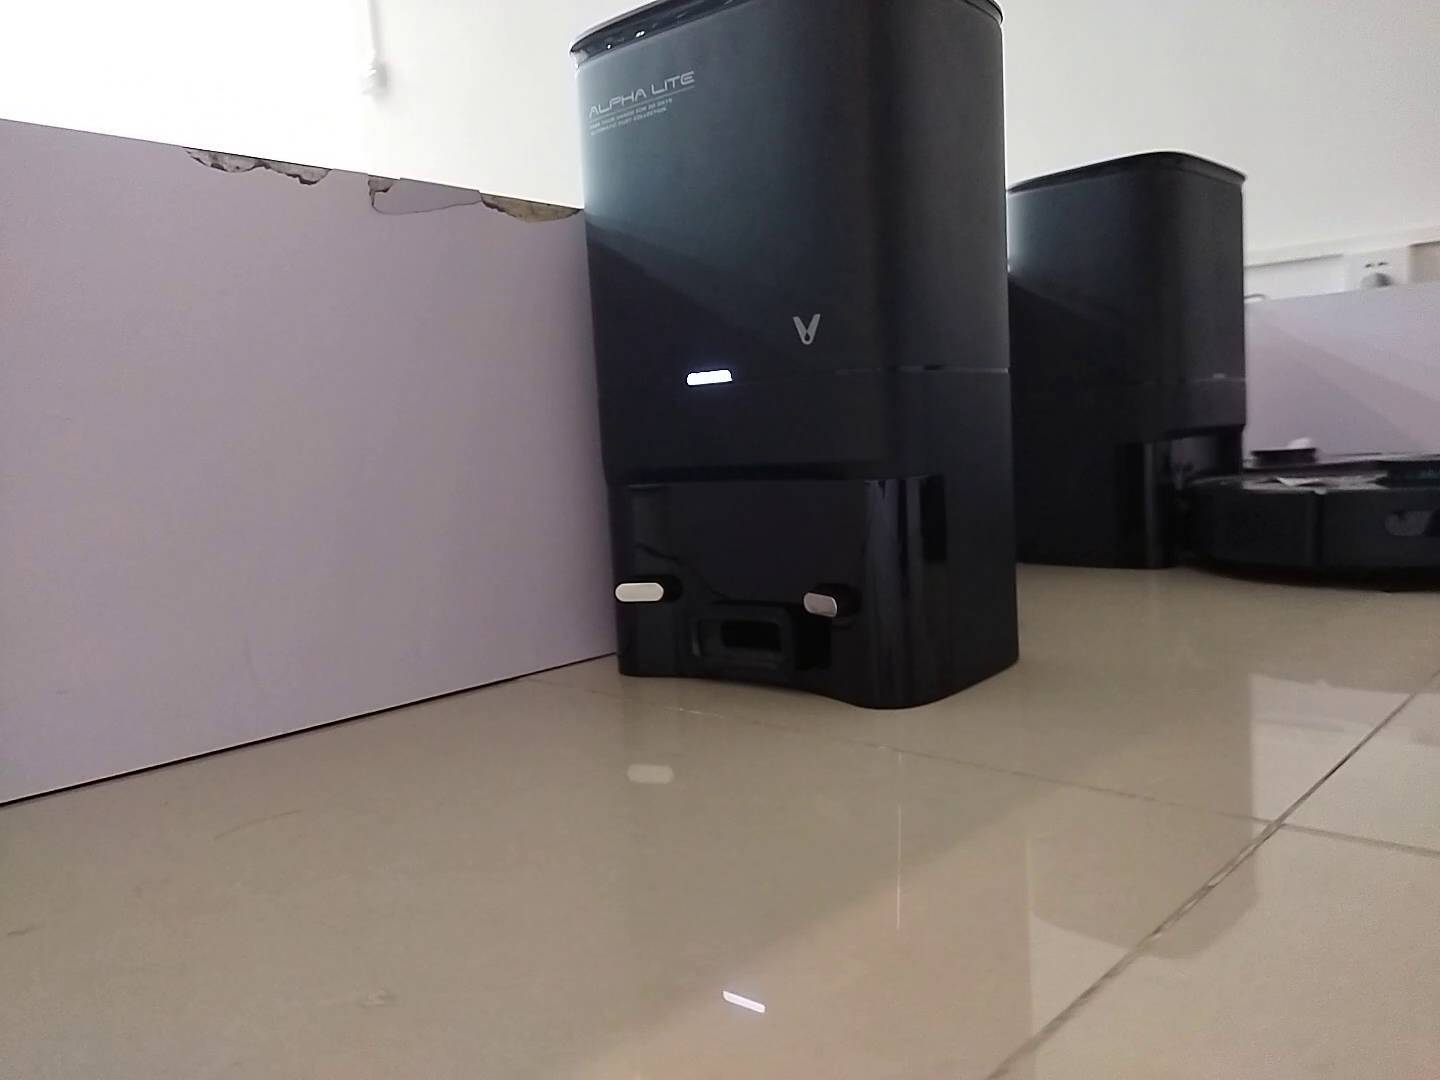dust collecting barrel: (571, 1, 1020, 709), (1006, 149, 1254, 572)
